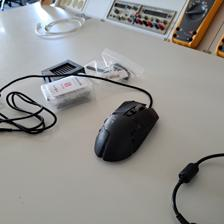mouse: (91, 97, 160, 163)
